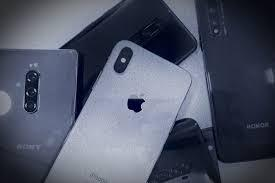Smartphone: (49, 61, 185, 183), (52, 0, 196, 108), (196, 0, 275, 168), (0, 46, 80, 183)
